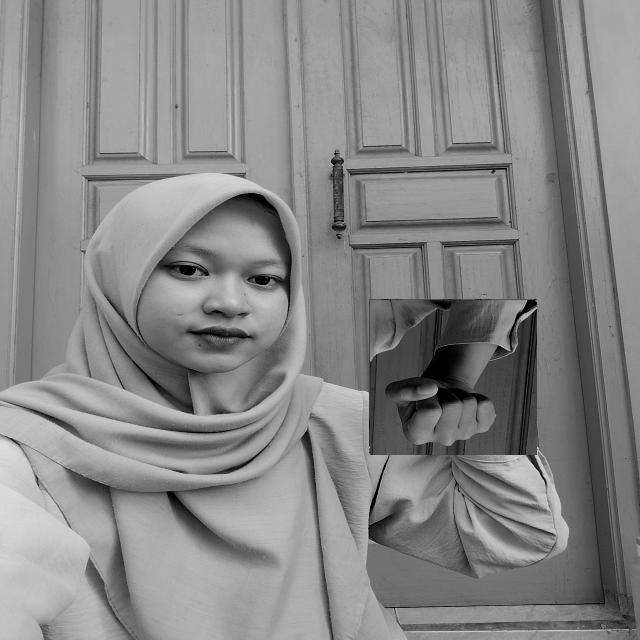baik: (369, 299, 537, 455)
